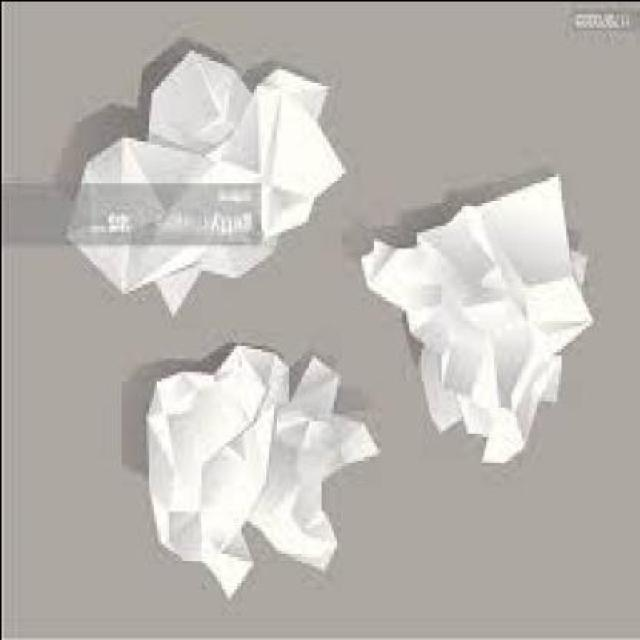PAPER: (67, 55, 345, 318), (362, 175, 595, 468), (147, 344, 382, 604)
